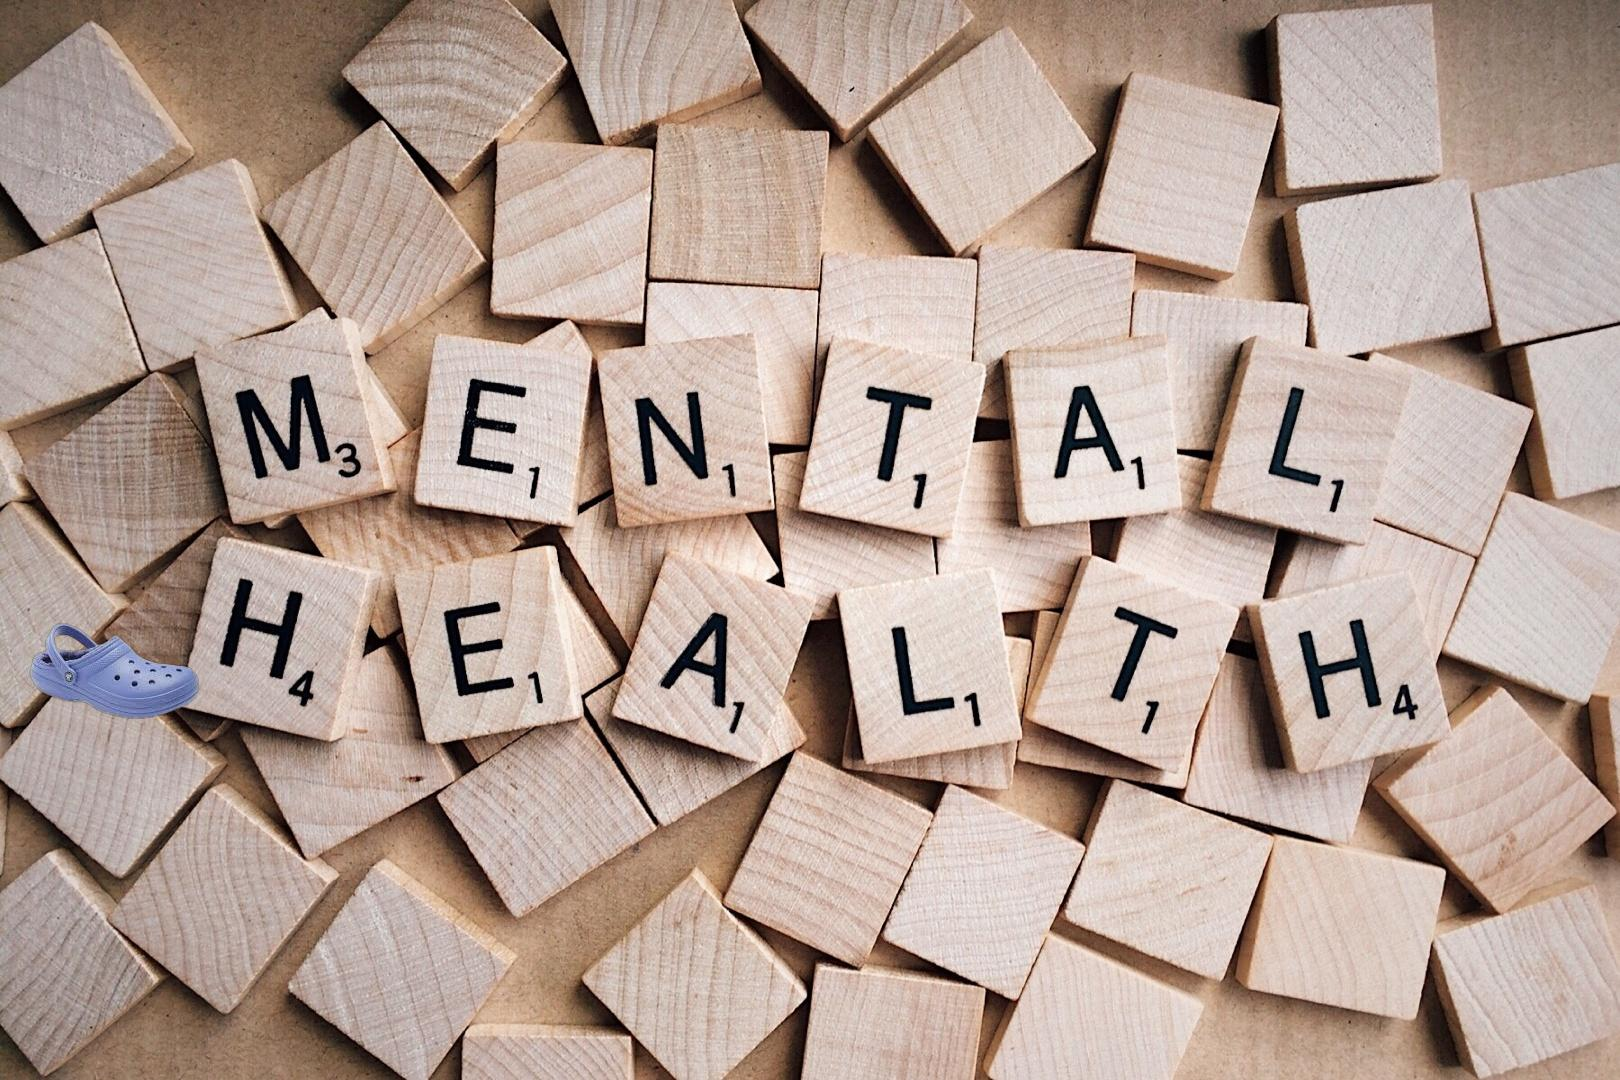shoes: (27, 620, 202, 720)
